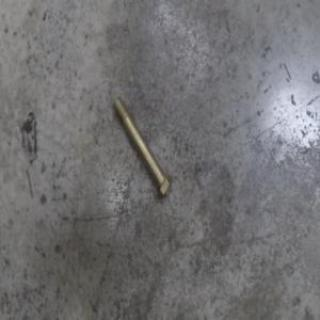Bolttrack_idkeyframe: (111, 94, 172, 200)
